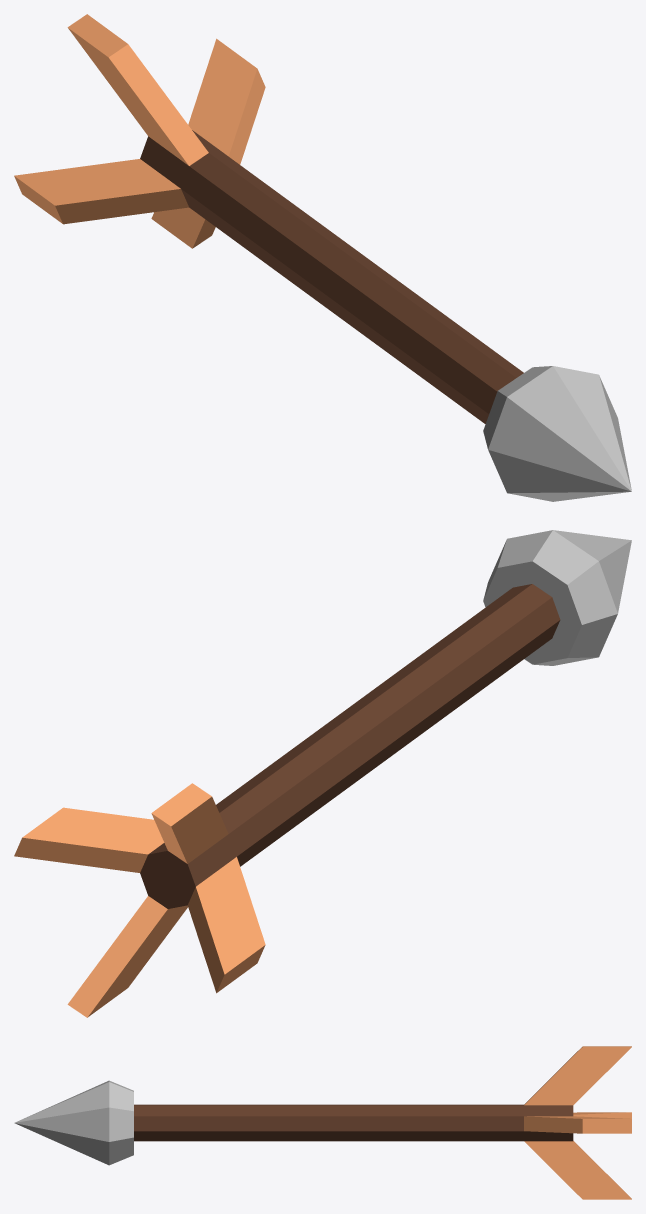
The model's file is arrow.glb.
3 renders of one model, top to bottom at view 1: azimuth 30°, elevation 25°; view 2: azimuth 150°, elevation 25°; view 3: azimuth 270°, elevation 25°, orthographic. The views are drawn at different scales.
Parts seen in each view (by area): view 1: Cylinder; view 2: Cylinder; view 3: Cylinder.
Boxes of the visible parts, left/top/right/bottom form: Cylinder: left=14, top=14, right=631, bottom=501; Cylinder: left=14, top=530, right=631, bottom=1017; Cylinder: left=14, top=1046, right=631, bottom=1199.
Bounding box in the file's own units: 0.3196 × 0.3196 × 1.35.
Materials: 1 (1 with a texture image).
